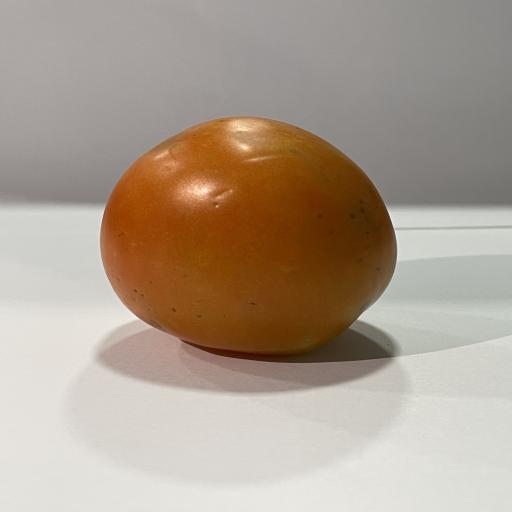unripe: (101, 117, 396, 354)
